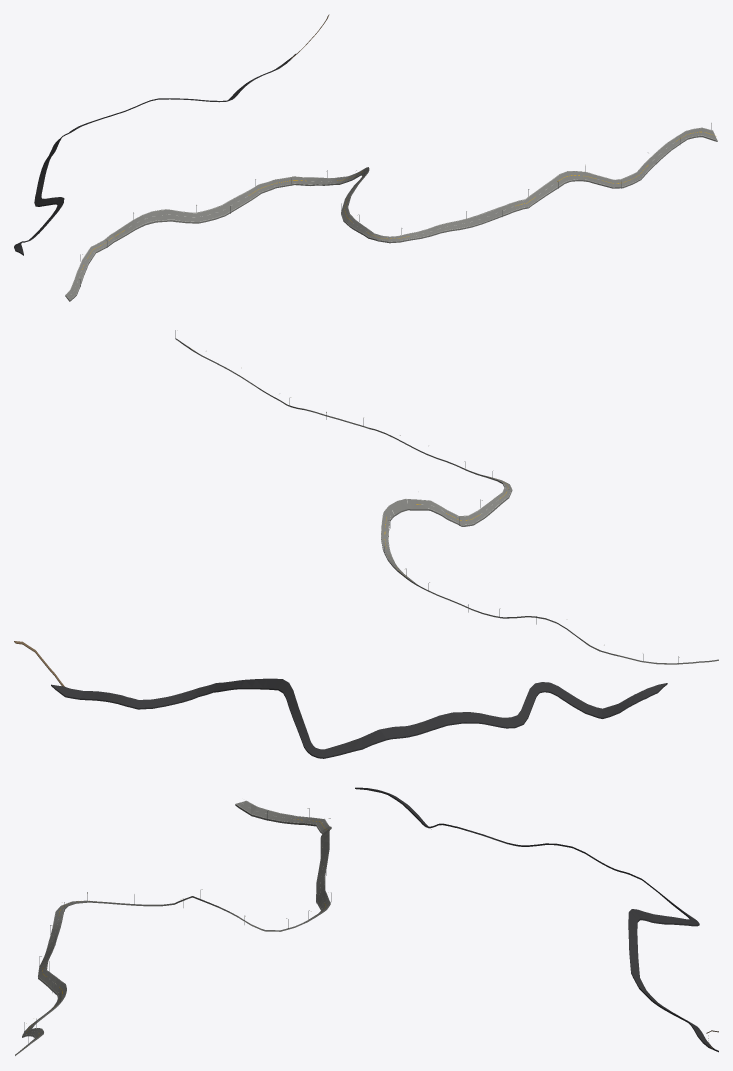
3 renders of one model, top to bottom at view 1: azimuth 30°, elevation 25°; view 2: azimuth 150°, elevation 25°; view 3: azimuth 270°, elevation 25°, orthographic. The views are drawn at different scales.
Size of the model in its own units: 591 by 104 by 485.
